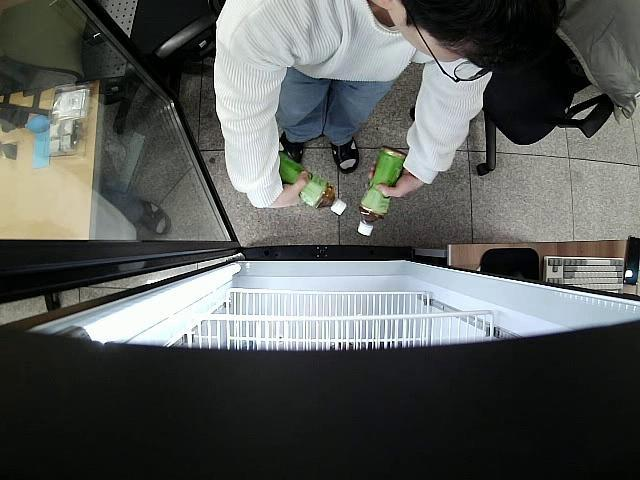19_17cha: (357, 145, 408, 238), (278, 153, 348, 216)
